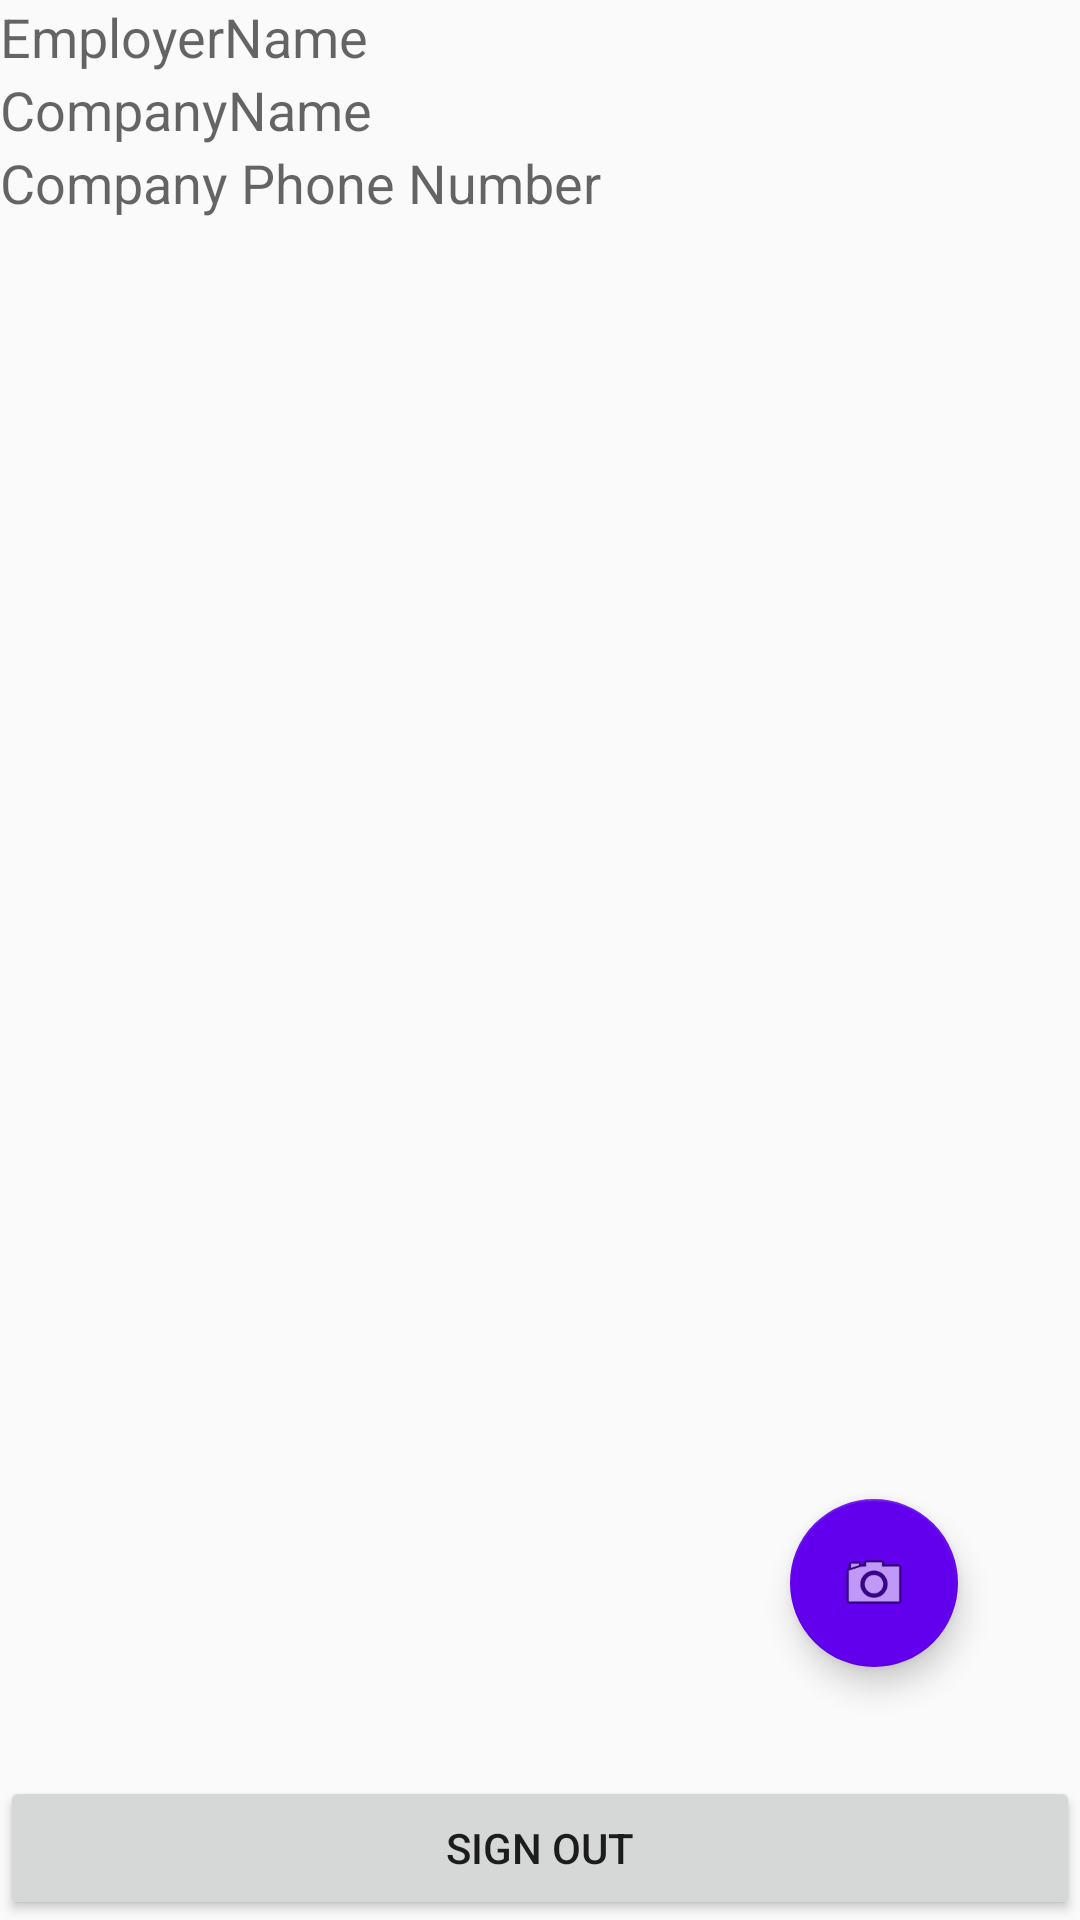

Point at icon controls on the screen. Image size 1080w x 1920h, points as (x=x, y=y).
camera: (x=874, y=1583)
